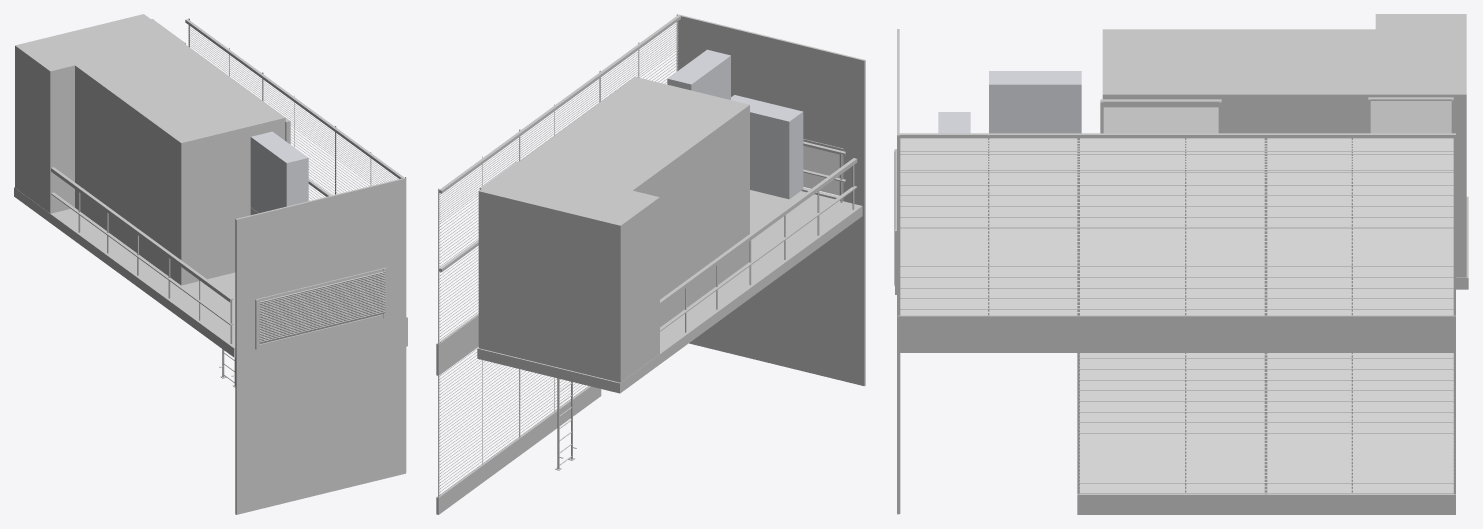
The model's file is airconditioner2(rough).fbx.
3 renders of one model, left to right at view 1: azimuth 30°, elevation 25°; view 2: azimuth 150°, elevation 25°; view 3: azimuth 270°, elevation 25°, orthographic. The views are drawn at different scales.
Parts seen in each view (by area): view 1: polySurface1200, polySurface1199, polySurface1201; view 2: polySurface1200, polySurface1199, polySurface1201; view 3: polySurface1201, polySurface1200, polySurface1199.
Boxes of the visible parts, x1=… form: polySurface1200: x1=14, y1=14, x2=308, y2=387; polySurface1199: x1=235, y1=178, x2=405, y2=514; polySurface1201: x1=185, y1=18, x2=407, y2=472; polySurface1200: x1=477, y1=49, x2=862, y2=470; polySurface1199: x1=677, y1=14, x2=865, y2=386; polySurface1201: x1=436, y1=14, x2=681, y2=514; polySurface1201: x1=897, y1=133, x2=1455, y2=514; polySurface1200: x1=938, y1=14, x2=1468, y2=289; polySurface1199: x1=894, y1=29, x2=899, y2=514.
Bounding box in the file's own units: 409 × 703 × 923.
Materials: 2 (2 with a texture image).
